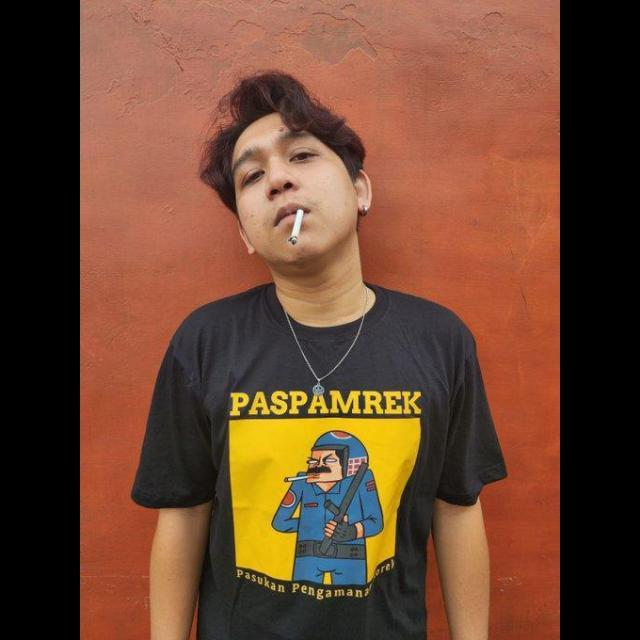rokok: (286, 204, 306, 250)
